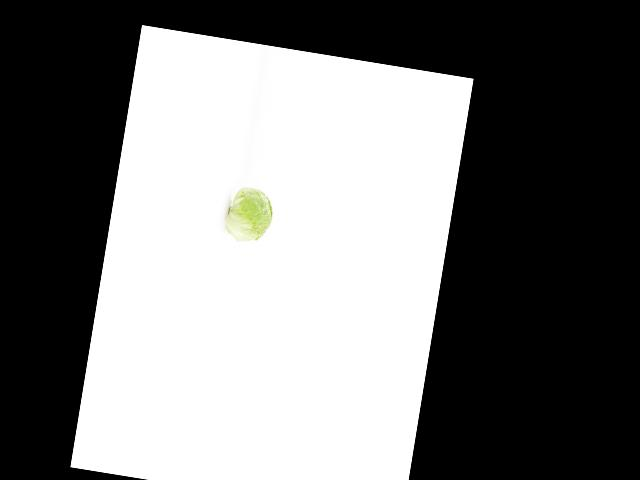lettuce: (225, 178, 278, 246)
